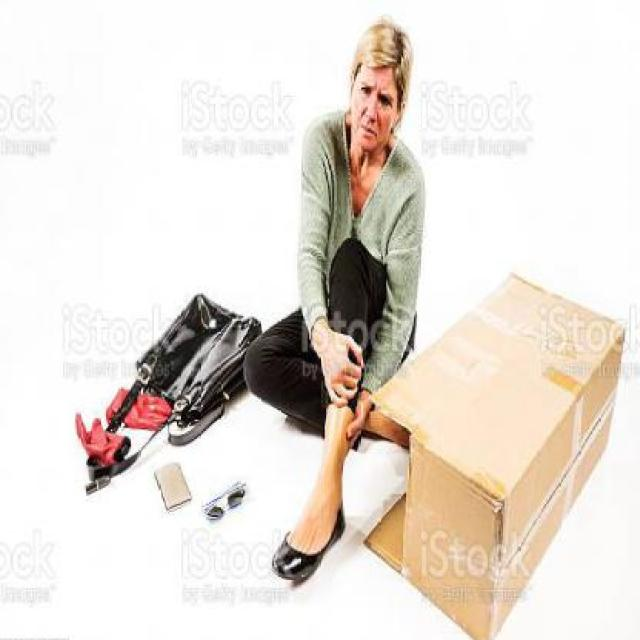box: (340, 233, 625, 640)
